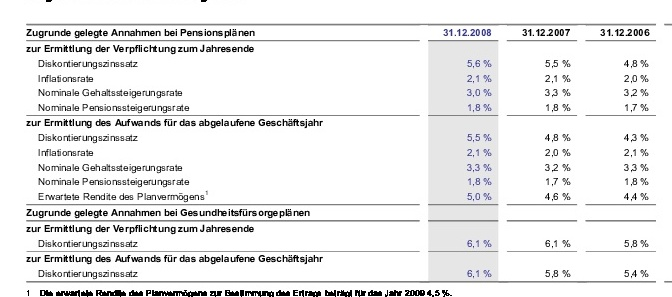table: (0, 0, 672, 297)
